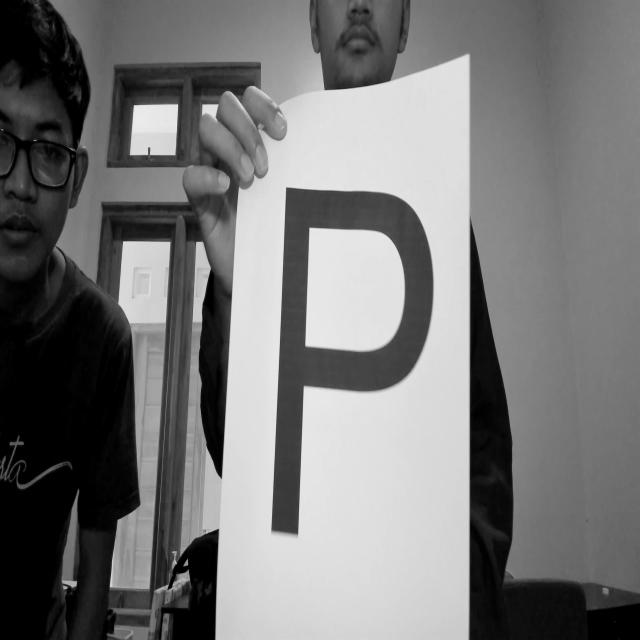p: (260, 164, 442, 575)
